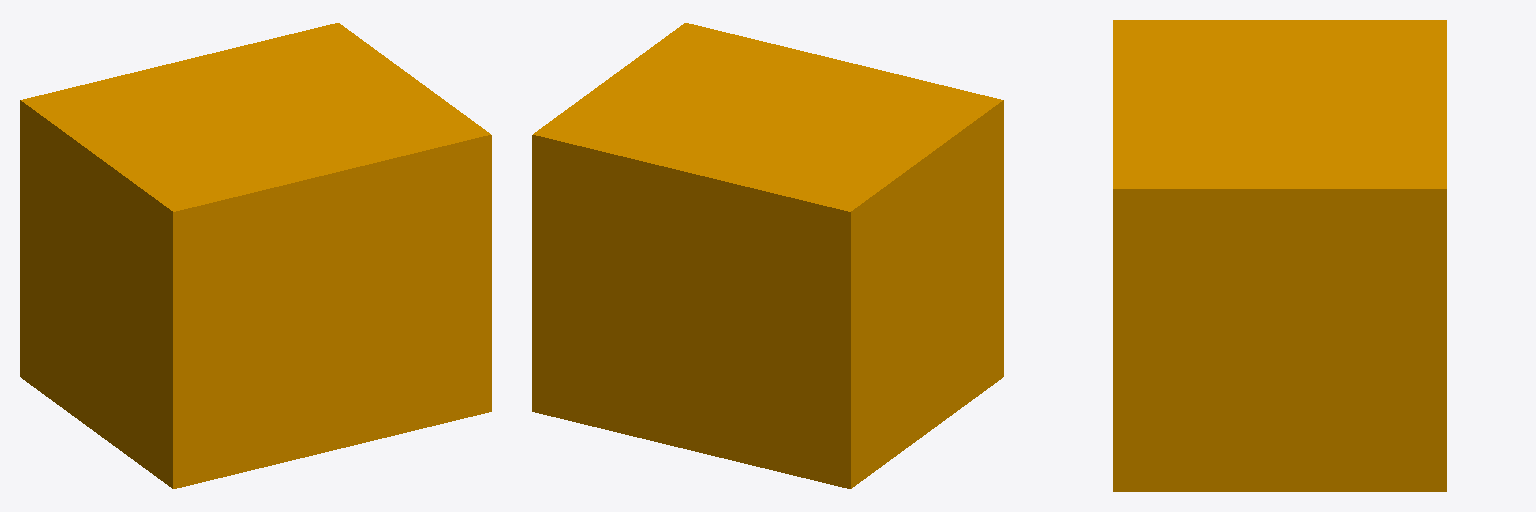
The robot description file, URDF, robot "object":
<robot name="object">
  <link name="object">
    <visual>
      <origin xyz="0 0 0" />
      <geometry>
        <box size="0.09600000000000003 0.08000000000000002 0.08" />
      </geometry>
    </visual>

    <collision>
      <origin xyz="0 0 0" />
      <geometry>
        <box size="0.09600000000000003 0.08000000000000002 0.08" />
      </geometry>
    </collision>

    <inertial>
      <mass value="0.05" />
      <inertia ixx="0.0001" ixy="0.0" ixz="0.0" iyy="0.0001" iyz="0.0" izz="0.0001" />
    </inertial>
  </link>
</robot>

--- Facts derived from the render (not from the file) ---
Views: 3 orthographic renders of the robot side by side, from view 1: azimuth 30°, elevation 25°; view 2: azimuth 150°, elevation 25°; view 3: azimuth 270°, elevation 25°.
Model object with 1 links and 0 joints (none), rooted at object, posed every joint at zero.
Links seen in each view (by area): view 1: object; view 2: object; view 3: object.
Boxes of the visible links, box(x1,y1,x2,y2) form: object: box(20, 23, 491, 488); object: box(532, 23, 1003, 488); object: box(1113, 20, 1446, 491).
Size in the robot's own frame: 0.096 by 0.08 by 0.08 metres.
Geometry: primitives only (box / cylinder / sphere), no mesh files.